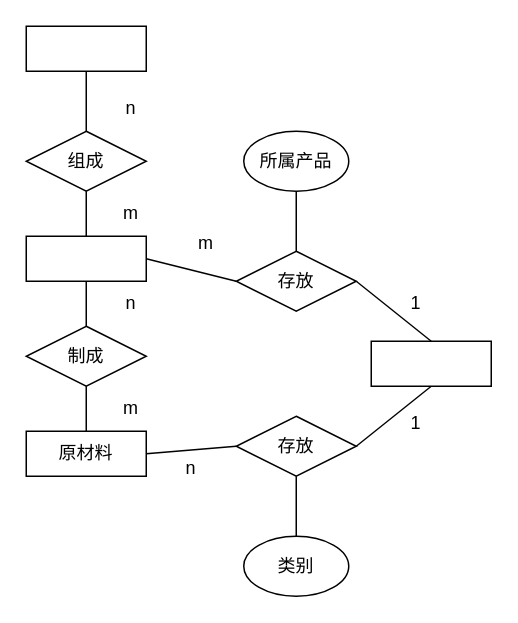
This 518x623 diagram has some shape labels left out. The shapes that lost their labels are listed below. From the top down, each one's centre as x and y in pixels, then its label:
At [85,48]: "产品".
At [85,258]: "零件".
At [430,363]: "仓库".
